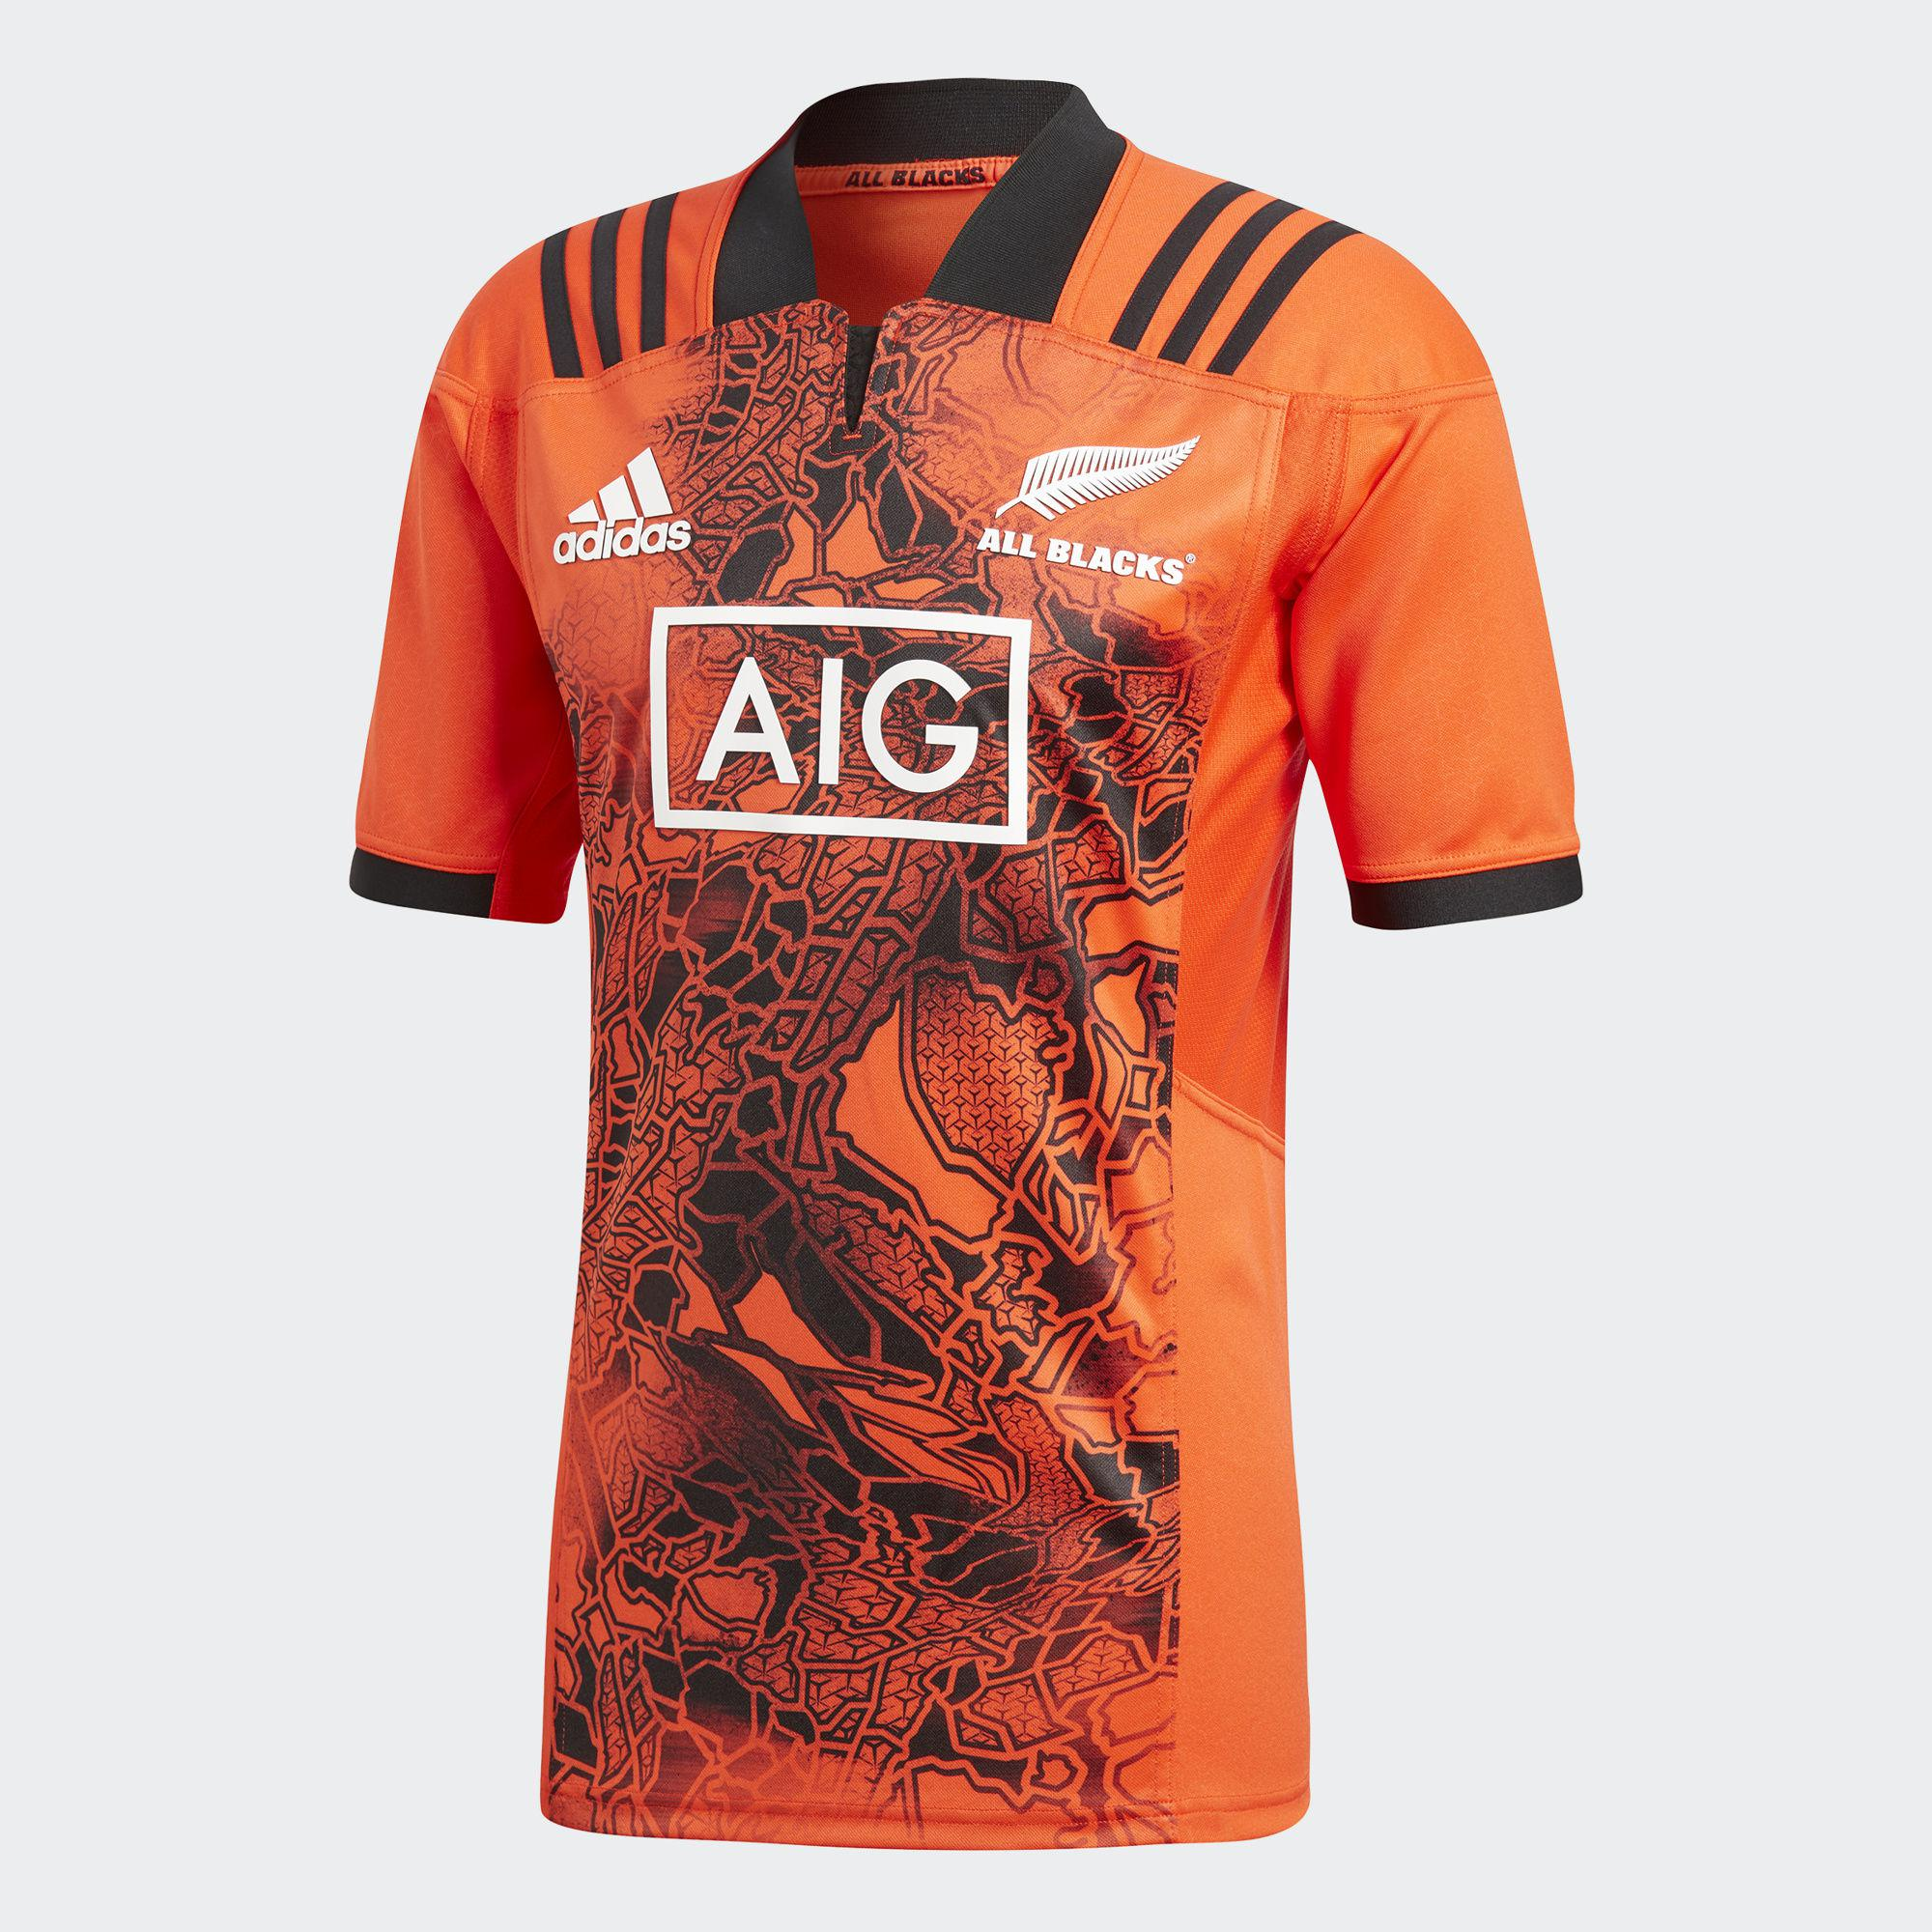teeshirt: (290, 64, 1805, 1932)
